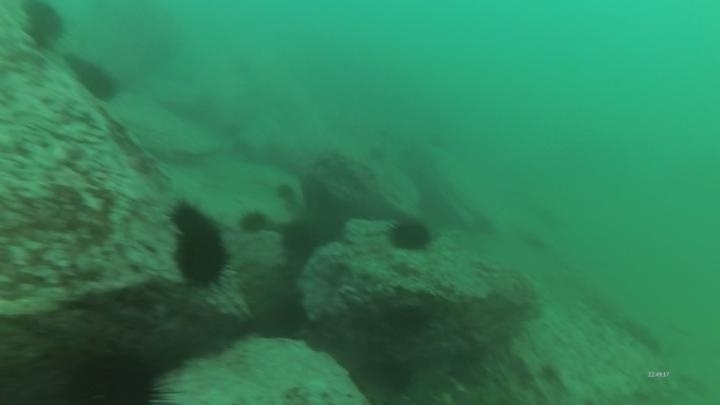echinus: (59, 348, 171, 404), (170, 236, 229, 288), (66, 54, 122, 104), (20, 1, 68, 51), (167, 199, 219, 238), (386, 215, 435, 254), (279, 219, 320, 263), (306, 206, 349, 247), (383, 302, 431, 338), (237, 208, 272, 237), (272, 181, 298, 206), (364, 141, 390, 166), (427, 130, 453, 155)
